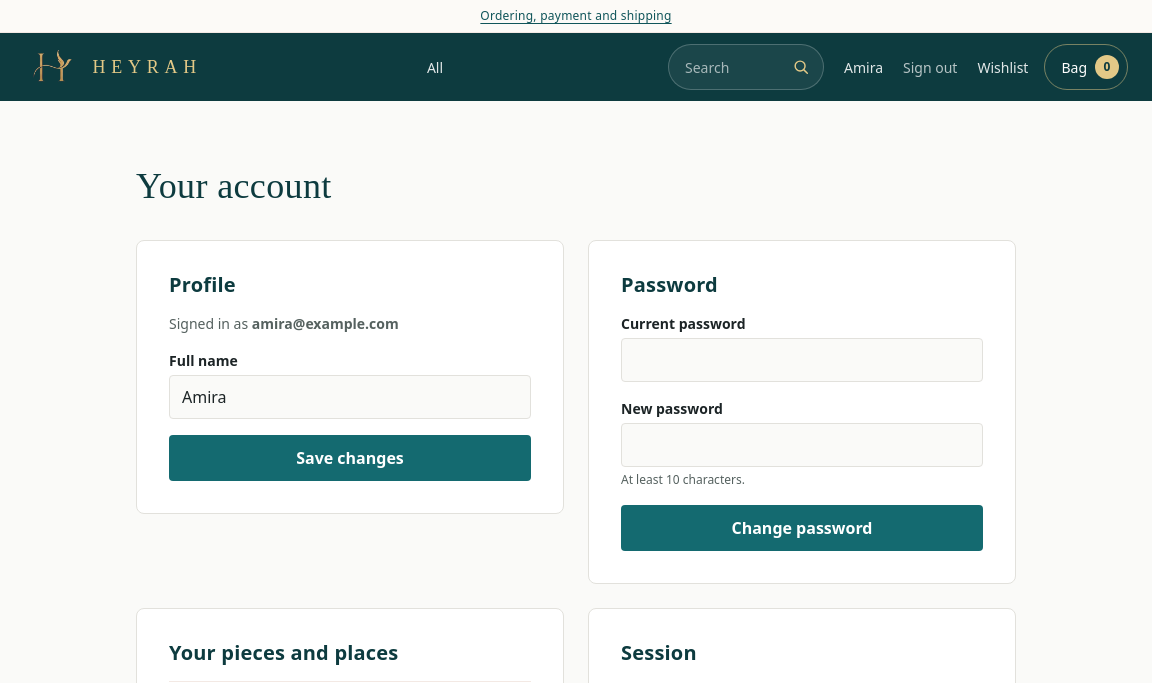
ProtectedRoute + AccountPage › changes the password and confirms success
expect the heading "Your account" is shown: met, box [136, 166, 332, 206]
Type "OldPass!11aa" into the password field labelled "Current password" at (802, 360), box [621, 338, 983, 382]
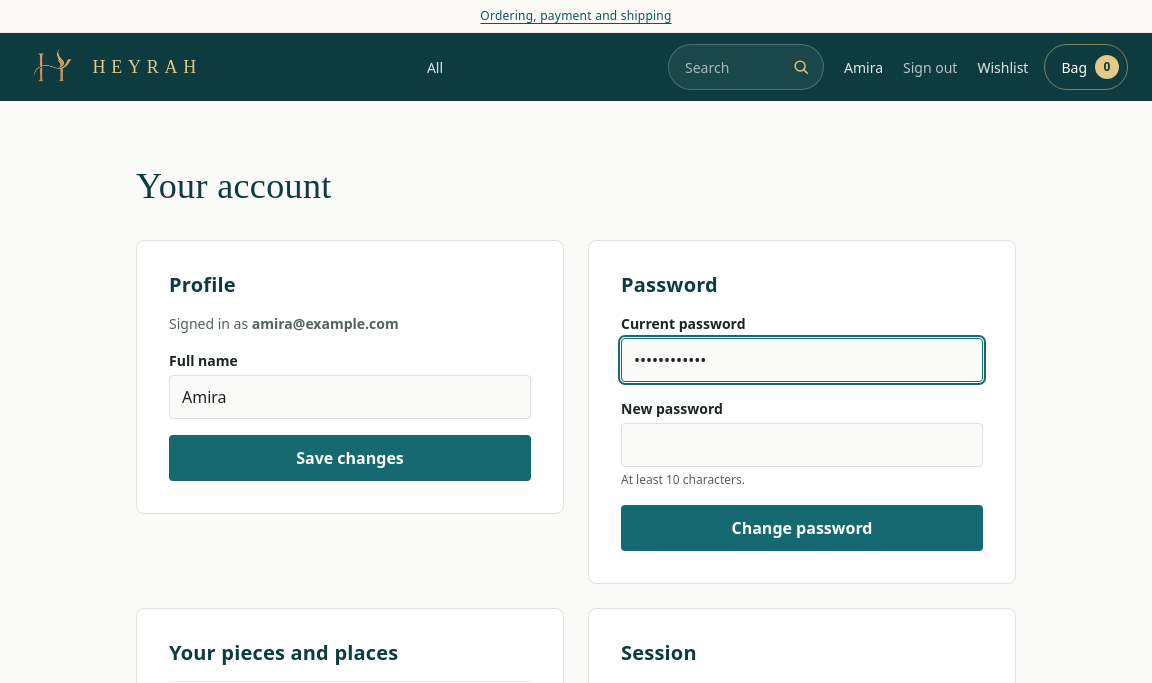
Type "NewPass!22bb" into the password field labelled "New password" at (802, 445), box [621, 423, 983, 467]
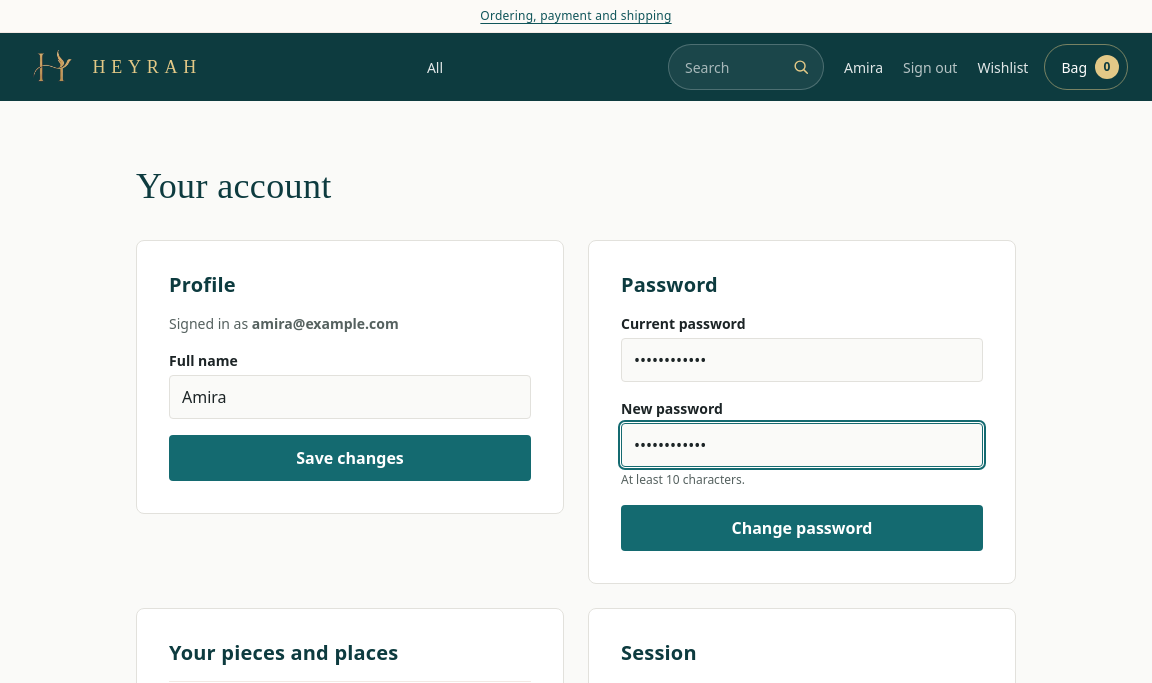
Click the button "Change password" at (802, 528), box [621, 505, 983, 551]
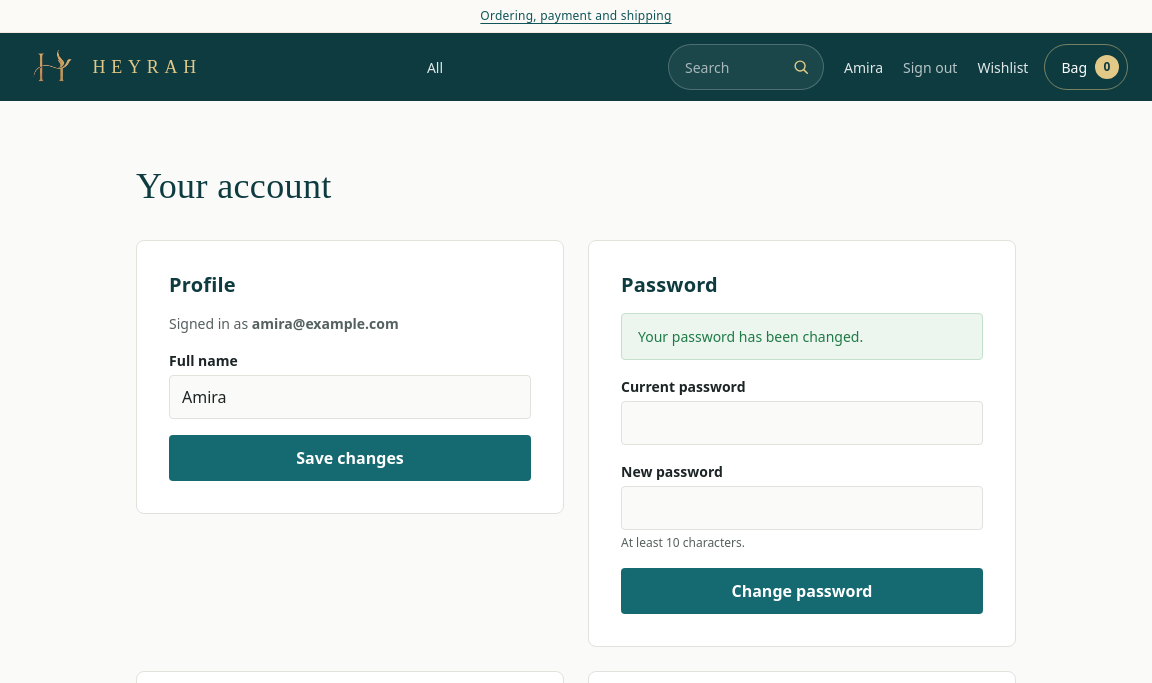
expect the message shows "password has been changed": met, box [638, 327, 863, 346]
